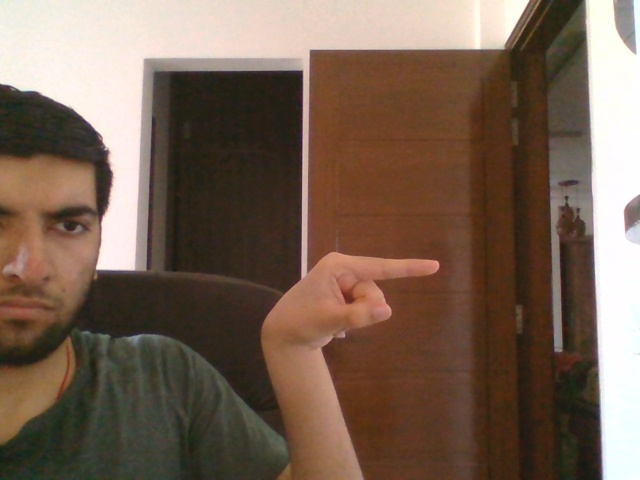LetterG: (260, 251, 440, 350)
